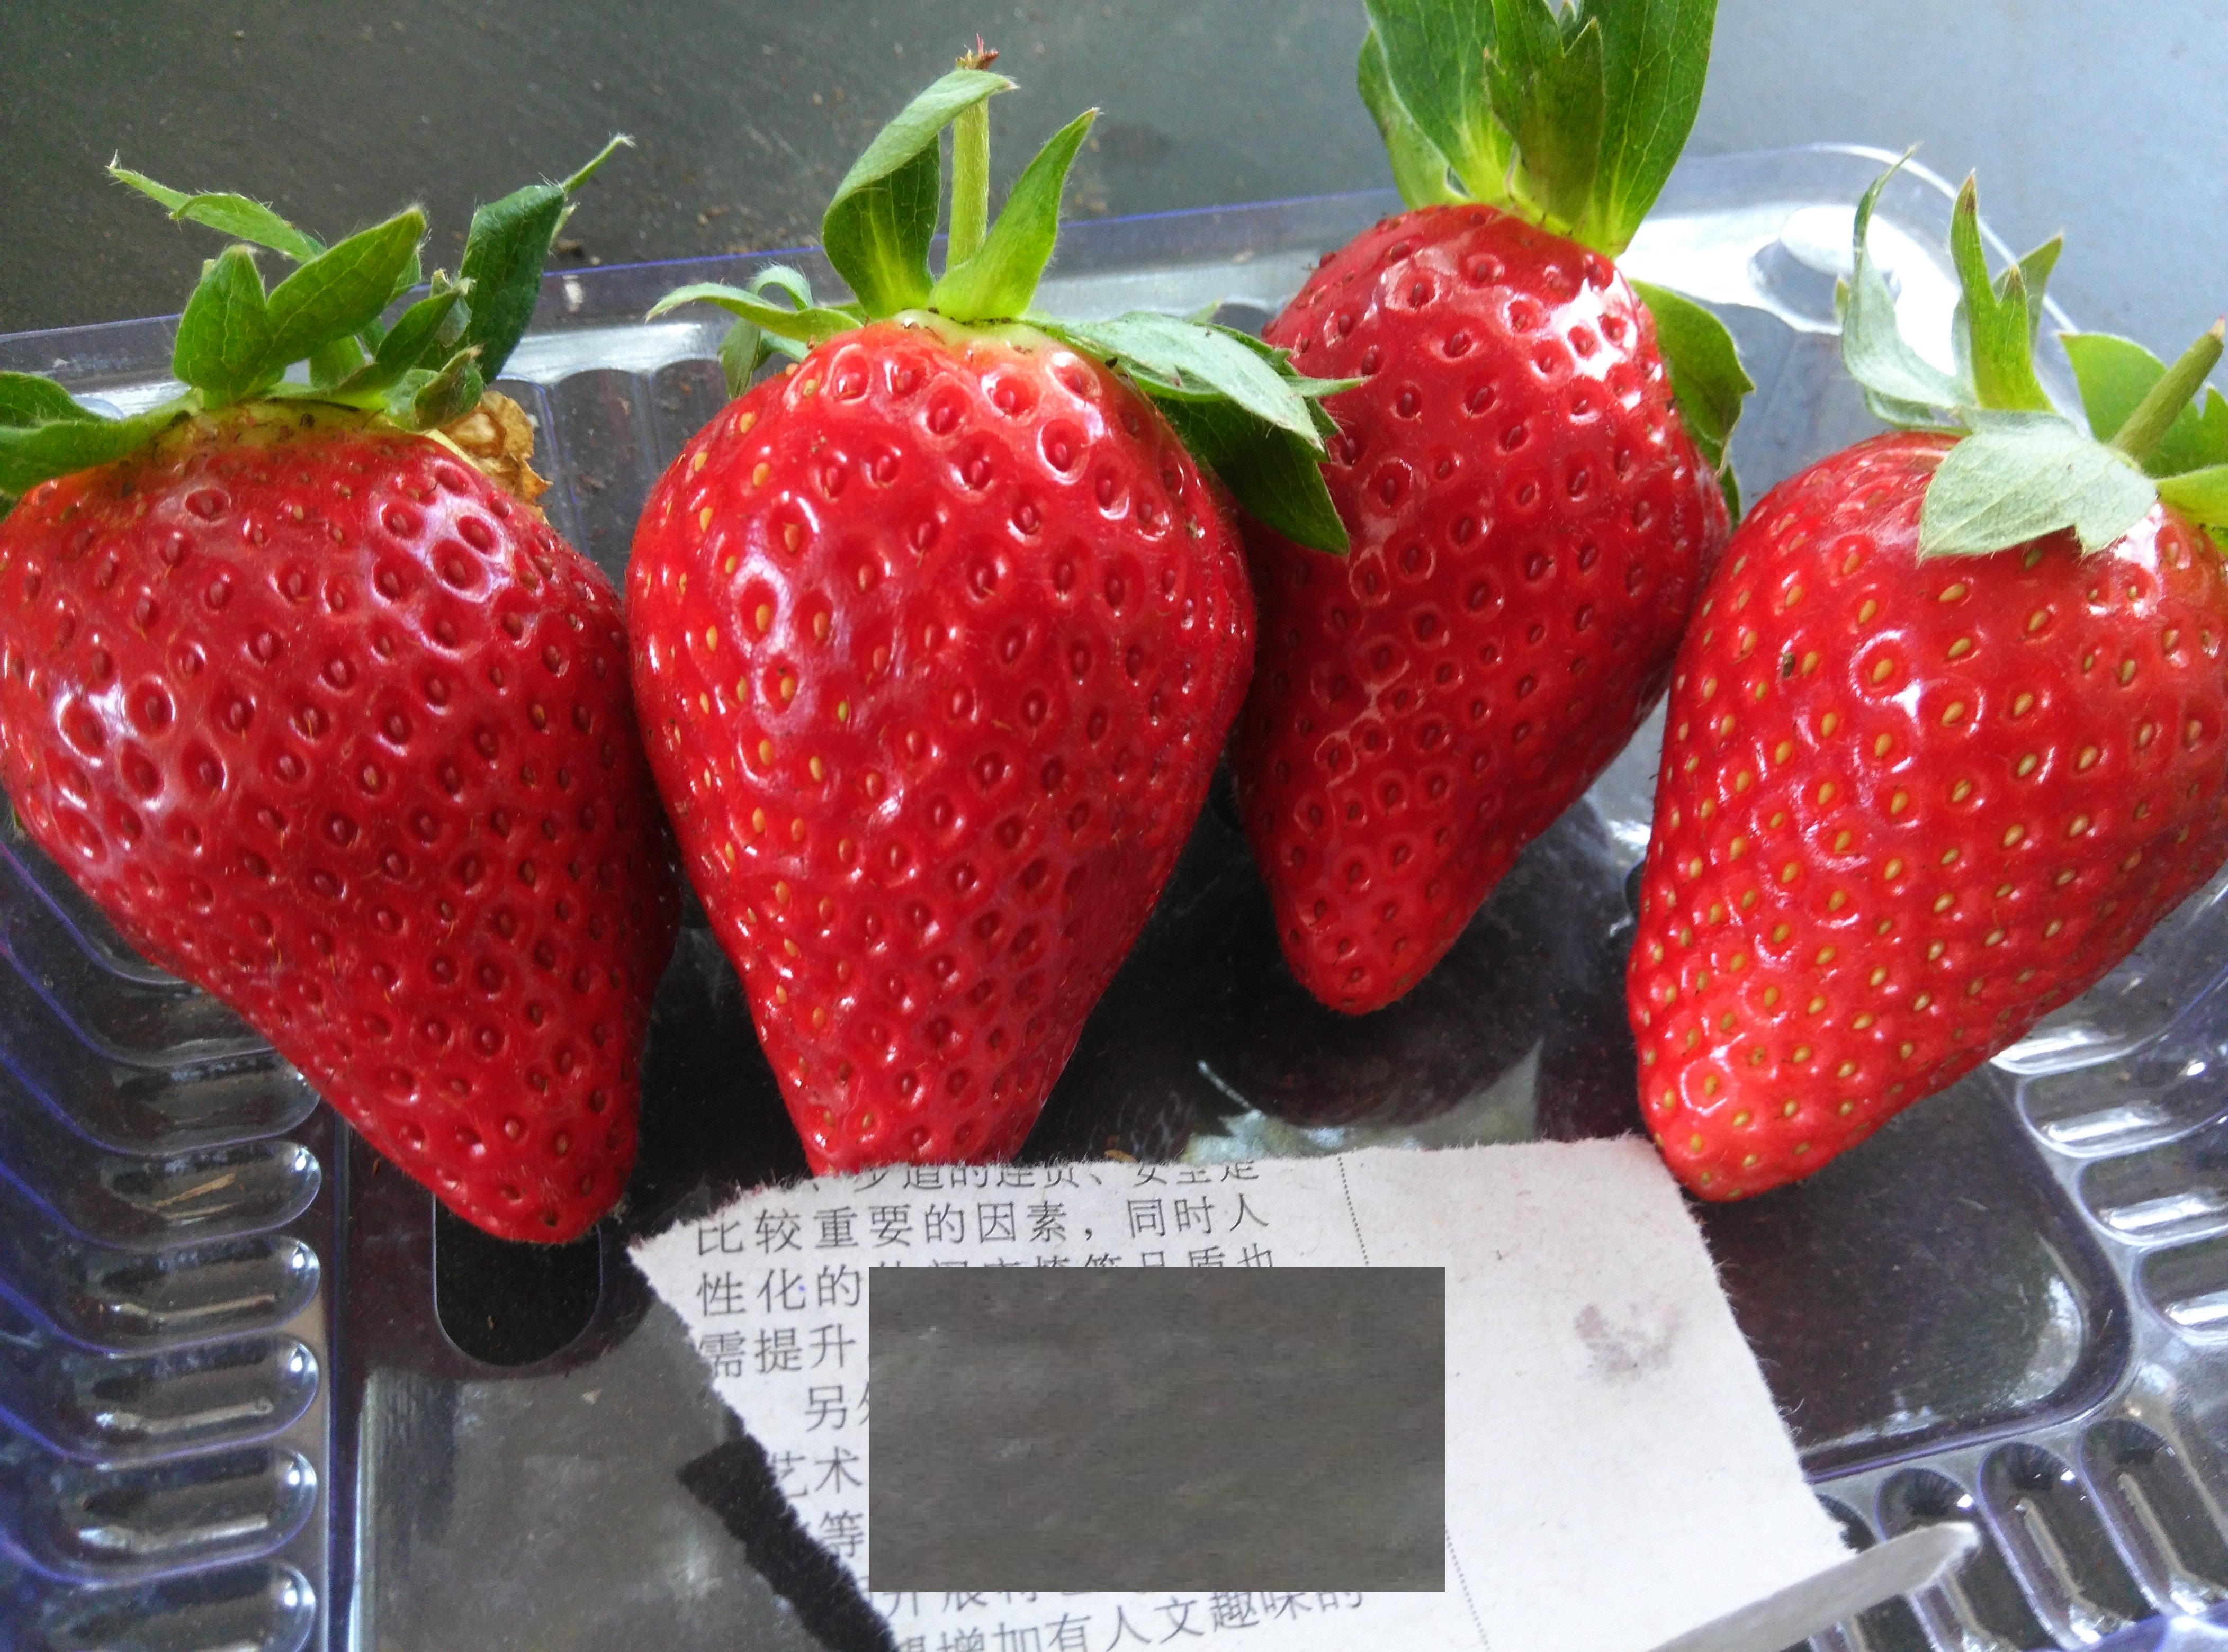StrawberryCone: (593, 300, 1253, 1192), (59, 361, 661, 1244), (1600, 371, 2169, 1232), (1248, 194, 1735, 1020)
StrawberryRemovable: (602, 305, 1248, 1192), (59, 371, 659, 1236), (1612, 371, 2181, 1230), (1253, 198, 1735, 1019)
